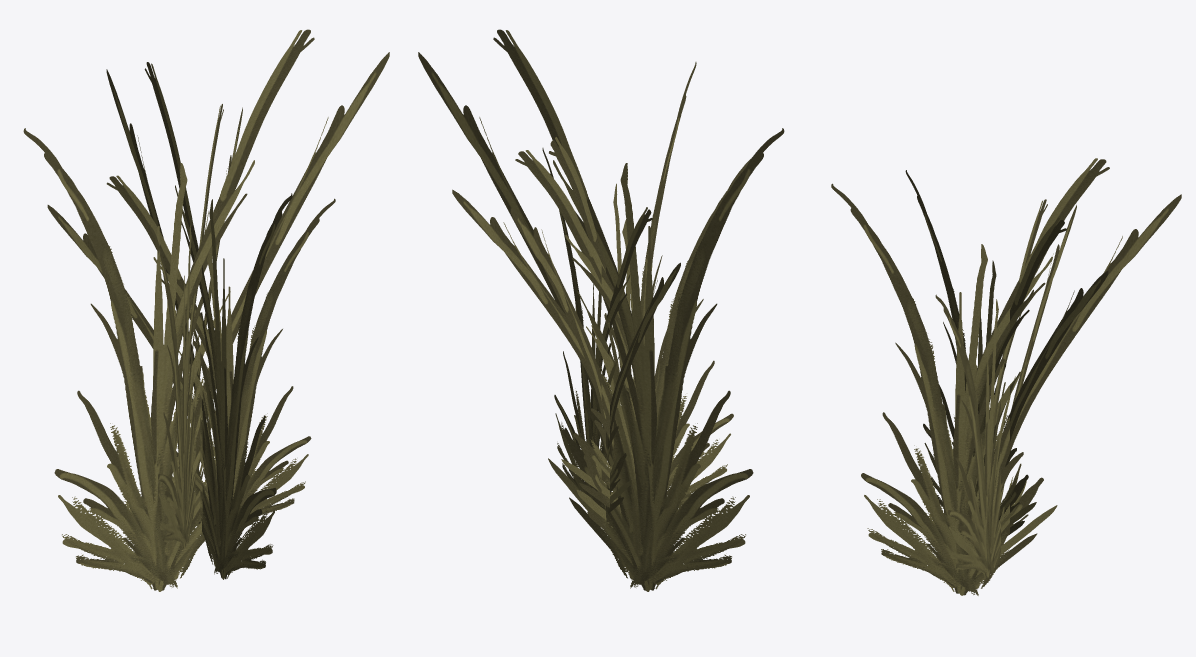
The model's file is shared_yellow_grass_03.fbx.
The picture shows the model from 3 angles, left to right: view 1: azimuth 30°, elevation 25°; view 2: azimuth 150°, elevation 25°; view 3: azimuth 270°, elevation 25°; orthographic projection. The views are drawn at different scales.
Visible parts, largest first — view 1: shared_yellow_grass_03; view 2: shared_yellow_grass_03; view 3: shared_yellow_grass_03.
Boxes of the visible parts, left/top/right/bottom form: shared_yellow_grass_03: left=23, top=29, right=389, bottom=591; shared_yellow_grass_03: left=418, top=29, right=784, bottom=591; shared_yellow_grass_03: left=831, top=158, right=1181, bottom=595.
Bounding box in the file's own units: 1 × 1.51 × 0.8794.
